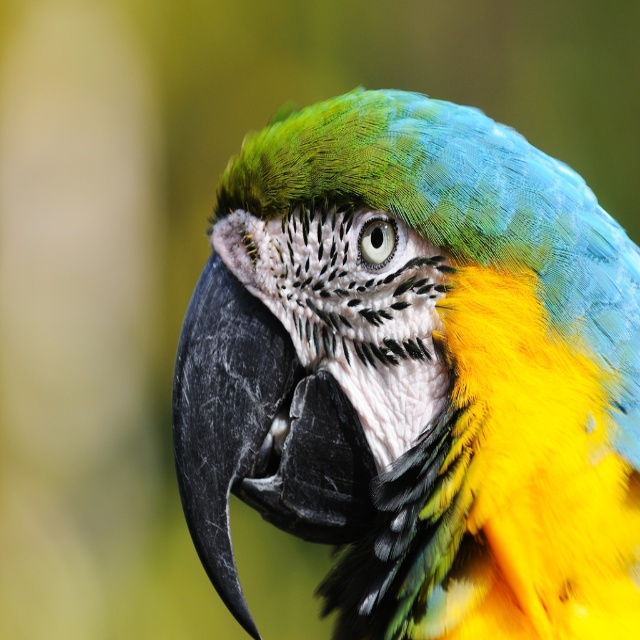Parrot: (170, 90, 638, 639)
